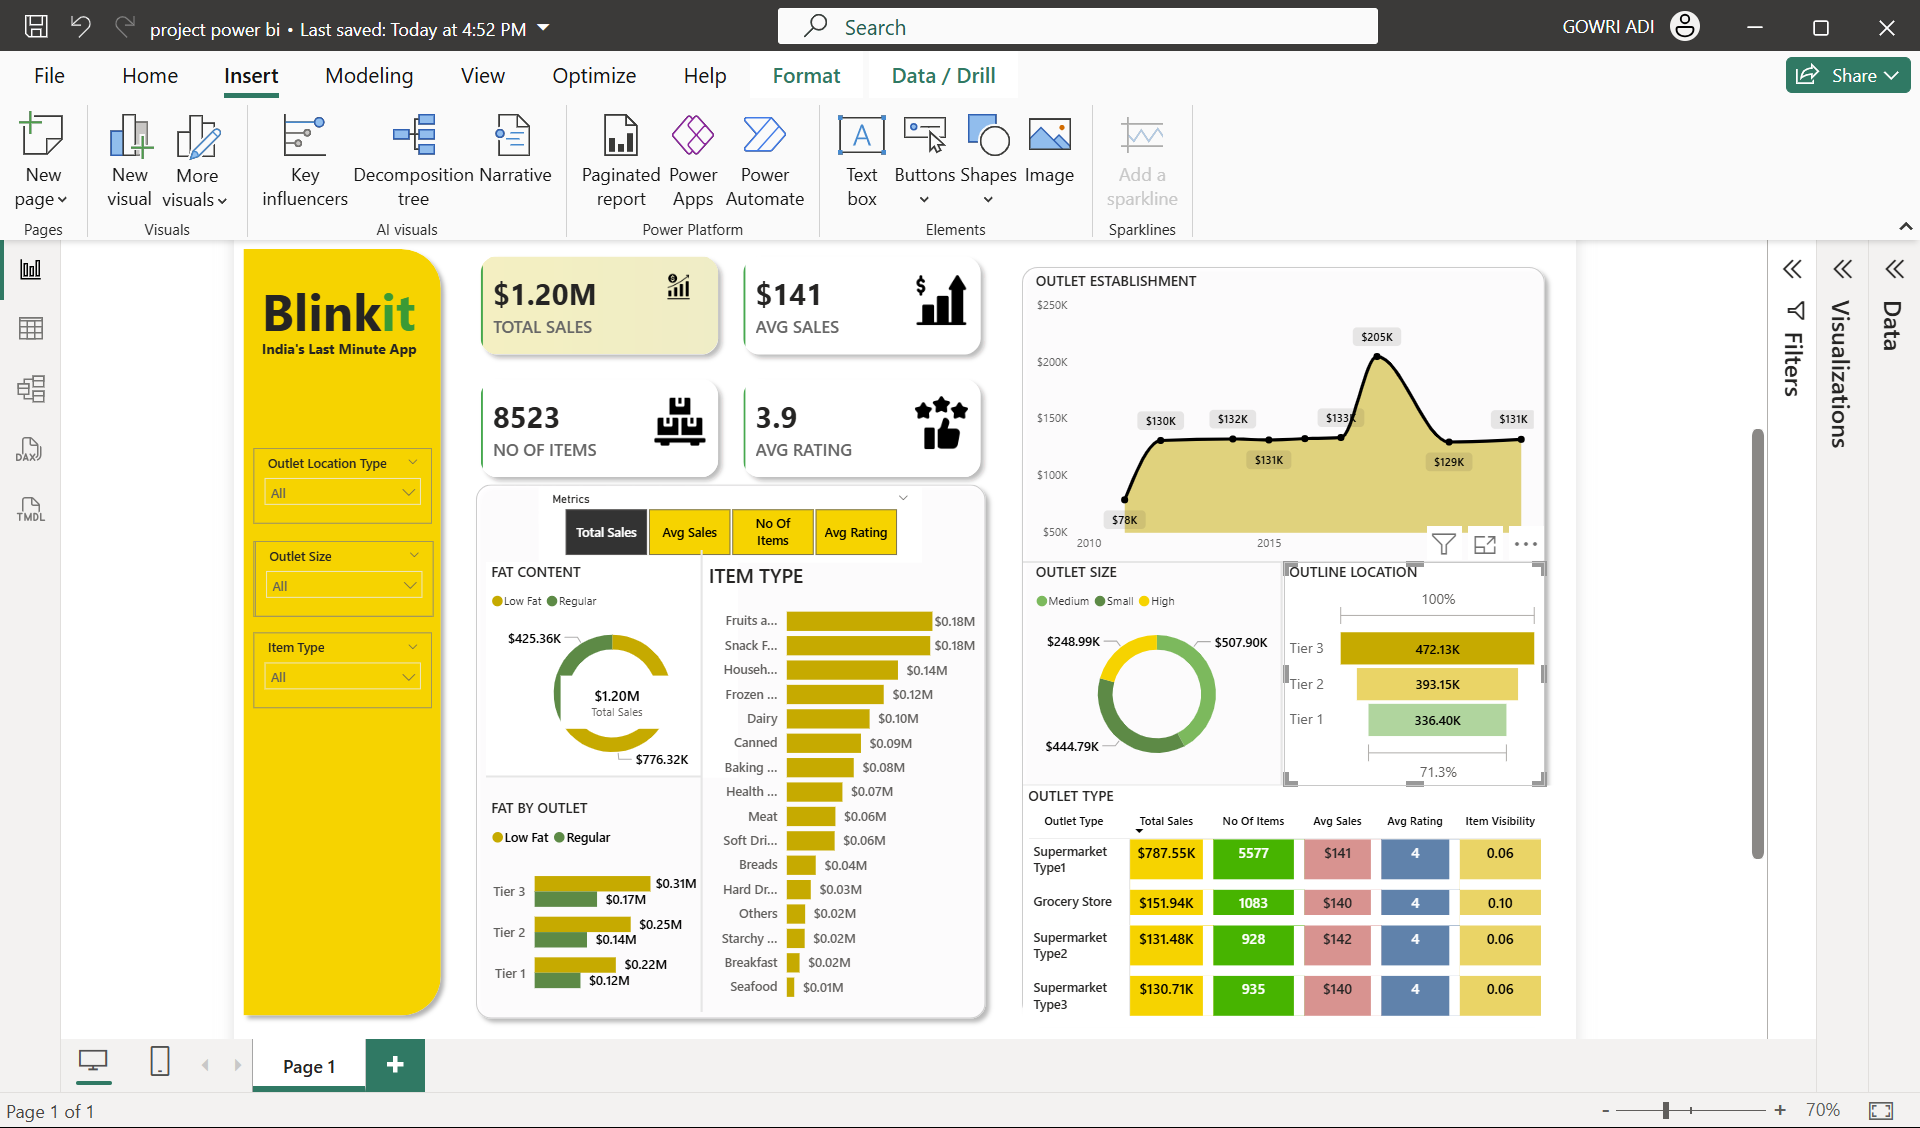

Layout of this report page (visuals, bound fields, positions):
{"tool":"powerbi","page":{"name":"Page 1","canvas":[1278,1400],"ordinal":0},"visuals":[{"type":"shape","box":[0,322,206,748],"z":0},{"type":"textbox","box":[22,352,166,82],"z":1000},{"type":"textbox","box":[22,410,170,46],"z":2000},{"type":"cardVisual","fields":{"Data":["BlinkIT Grocery Data.Total Sales","BlinkIT Grocery Data.Avg Sales","BlinkIT Grocery Data.No Of Items","BlinkIT Grocery Data.Avg Rating"]},"box":[205,308.3,535,268.3],"z":3000},{"type":"shape","box":[221.7,545,503.3,526.7],"z":4000},{"type":"donutChart","title":"FAT CONTENT","fields":{"Y":["BlinkIT Grocery Data.Avg Rating"],"Category":["BlinkIT Grocery Data.Item Fat Content"]},"box":[240,628.3,240,205],"z":5000},{"type":"slicer","fields":{"Values":["Metrics.Metrics"]},"box":[290,556.7,365,71.7],"z":6000},{"type":"cardVisual","fields":{"Data":["BlinkIT Grocery Data.Avg Rating"]},"box":[305,731.7,118.3,61.7],"z":7000},{"type":"clusteredBarChart","title":"FAT BY OUTLET","fields":{"Y":["BlinkIT Grocery Data.Avg Rating"],"Category":["BlinkIT Grocery Data.Outlet Location Type"],"Series":["BlinkIT Grocery Data.Item Fat Content"]},"box":[240,853.3,205,203.3],"z":8000},{"type":"shape","box":[240,813.3,205,40],"z":9000},{"type":"shape","box":[343.3,616.7,205,440],"z":10000},{"type":"barChart","title":"ITEM TYPE","fields":{"Y":["BlinkIT Grocery Data.Avg Rating"],"Category":["BlinkIT Grocery Data.Item Type"]},"box":[446.7,628.3,263.3,428.3],"z":11000},{"type":"shape","box":[742,338,516,734],"z":12000},{"type":"lineChart","title":"OUTLET ESTABLISHMENT","fields":{"Y":["BlinkIT Grocery Data.Total Sales"],"Category":["BlinkIT Grocery Data.Outlet Establishment Year"]},"box":[758,352,484,276],"z":13000},{"type":"shape","box":[752,608,496,40],"z":14000},{"type":"donutChart","title":"OUTLET SIZE","fields":{"Y":["BlinkIT Grocery Data.Total Sales"],"Category":["BlinkIT Grocery Data.Outlet Size"]},"box":[758,628,240,206],"z":15000},{"type":"shape","box":[896,628,204,214],"z":16000},{"type":"funnel","title":"OUTLINE LOCATION","fields":{"Y":["Sum(BlinkIT Grocery Data.Sales)"],"Category":["BlinkIT Grocery Data.Outlet Location Type"]},"box":[1000,628,248,214],"z":17000},{"type":"shape","box":[752,822,496,40],"z":18000},{"type":"pivotTable","title":"OUTLET TYPE","fields":{"Rows":["BlinkIT Grocery Data.Outlet Type"],"Values":["BlinkIT Grocery Data.Total Sales","BlinkIT Grocery Data.No Of Items","BlinkIT Grocery Data.Avg Sales","BlinkIT Grocery Data.Avg Rating","Avg(BlinkIT Grocery Data.Item Visibility)"]},"box":[752,842,506,230],"z":19000},{"type":"slicer","fields":{"Values":["BlinkIT Grocery Data.Outlet Location Type"]},"box":[18,520,170,72],"z":20000},{"type":"slicer","fields":{"Values":["BlinkIT Grocery Data.Outlet Size"]},"box":[18,608,170,72],"z":21000},{"type":"slicer","fields":{"Values":["BlinkIT Grocery Data.Item Type"]},"box":[18,696,170,72],"z":22000},{"type":"slicer","fields":{"Values":["BlinkIT Grocery Data.Outlet Size"]},"box":[20,608,170,72],"z":23000},{"type":"textbox","box":[0,146,206,72],"z":24000}]}

Visuals, with their boxes on the page's 1278x1400 design canvas (x1, y1, x2, y2). These are canvas units, not pixel positions in the 1920x1128 screenshot, which may show the page scaled, cropped or inside an application window:
shape: 0 322 206 1070
textbox: 22 352 188 434
textbox: 22 410 192 456
cardVisual - BlinkIT Grocery Data.Total Sales x BlinkIT Grocery Data.Avg Sales: 205 308 740 577
shape: 222 545 725 1072
"FAT CONTENT" donutChart: 240 628 480 833
slicer - Metrics.Metrics: 290 557 655 628
cardVisual - BlinkIT Grocery Data.Avg Rating: 305 732 423 793
"FAT BY OUTLET" clusteredBarChart: 240 853 445 1057
shape: 240 813 445 853
shape: 343 617 548 1057
"ITEM TYPE" barChart: 447 628 710 1057
shape: 742 338 1258 1072
"OUTLET ESTABLISHMENT" lineChart: 758 352 1242 628
shape: 752 608 1248 648
"OUTLET SIZE" donutChart: 758 628 998 834
shape: 896 628 1100 842
"OUTLINE LOCATION" funnel: 1000 628 1248 842
shape: 752 822 1248 862
"OUTLET TYPE" pivotTable: 752 842 1258 1072
slicer - BlinkIT Grocery Data.Outlet Location Type: 18 520 188 592
slicer - BlinkIT Grocery Data.Outlet Size: 18 608 188 680
slicer - BlinkIT Grocery Data.Item Type: 18 696 188 768
slicer - BlinkIT Grocery Data.Outlet Size: 20 608 190 680
textbox: 0 146 206 218
